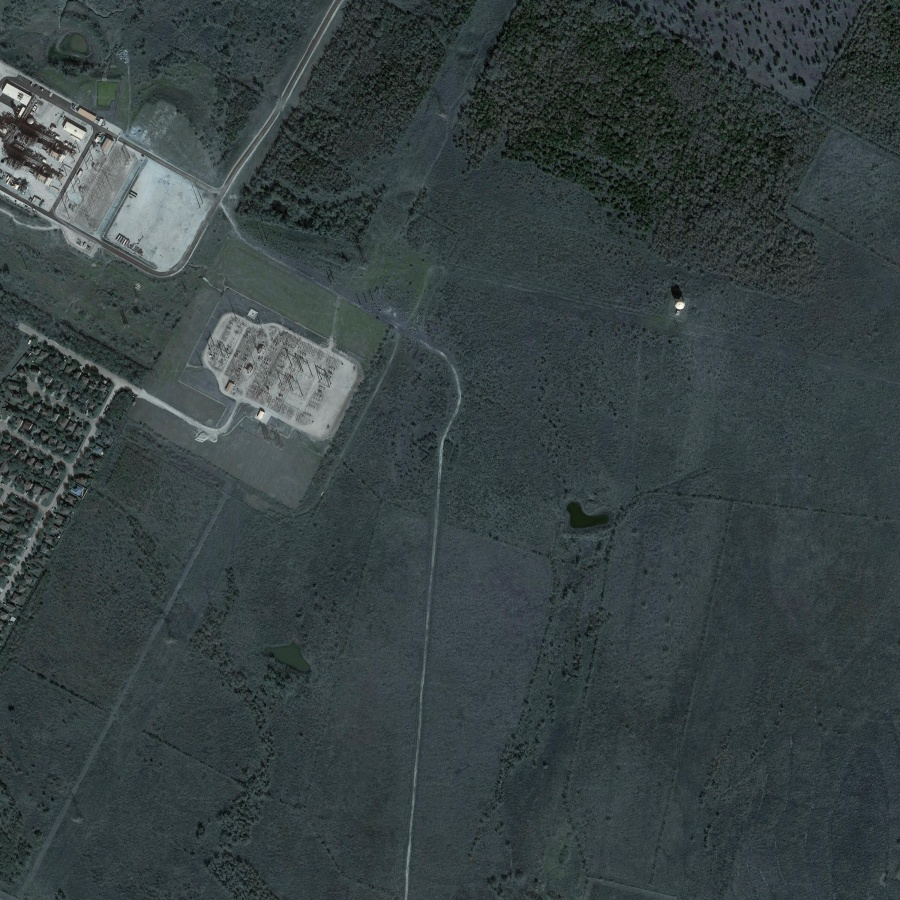PowerPlant: (200, 297, 346, 434)
